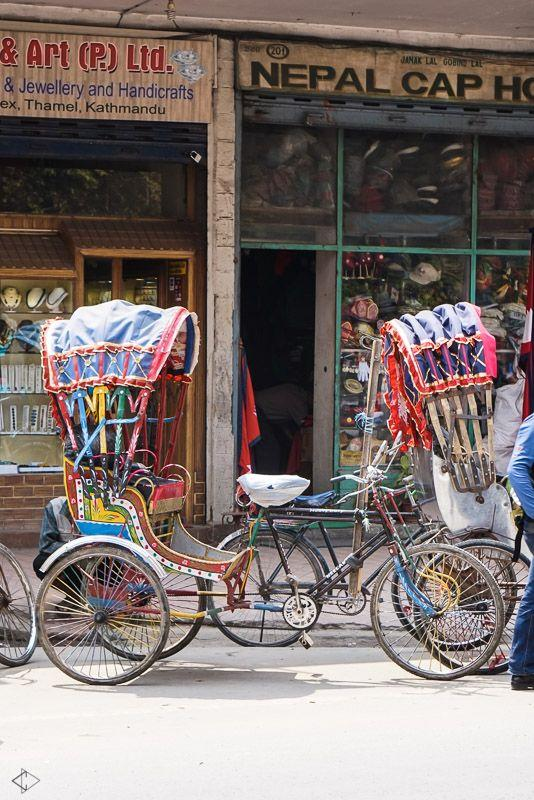Rickshaw: (37, 300, 319, 683), (37, 300, 248, 682), (361, 295, 532, 601), (0, 543, 36, 665)
